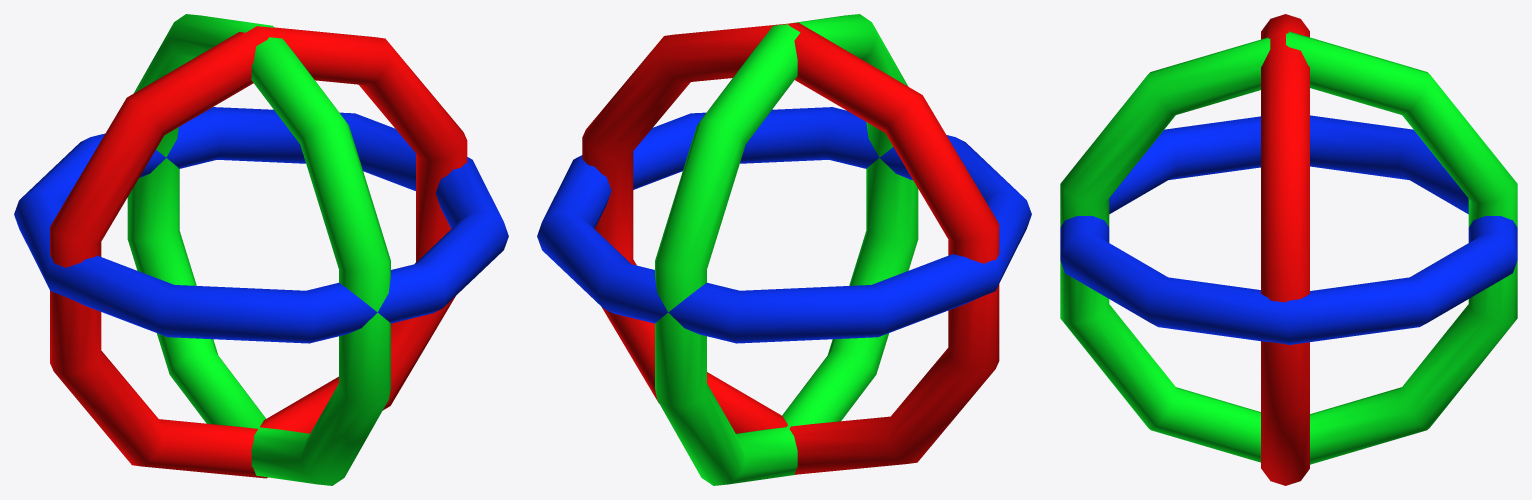
File: grabber.glb
The picture shows the model from 3 angles, left to right: view 1: azimuth 30°, elevation 25°; view 2: azimuth 150°, elevation 25°; view 3: azimuth 270°, elevation 25°; orthographic projection. The views are drawn at different scales.
Parts seen in each view (by area): view 1: Torus 2, Torus 1, Torus; view 2: Torus 2, Torus 1, Torus; view 3: Torus 1, Torus, Torus 2.
Part boxes in pixels (box(x1,y1,x2,y2)): Torus 2: box(50, 26, 467, 478); Torus 1: box(127, 14, 390, 485); Torus: box(14, 107, 508, 343); Torus 2: box(582, 22, 999, 474); Torus 1: box(655, 14, 918, 485); Torus: box(537, 107, 1031, 343); Torus 1: box(1060, 31, 1517, 464); Torus: box(1060, 115, 1517, 344); Torus 2: box(1261, 14, 1309, 485).
Size of the model in its own units: 0.112 by 0.112 by 0.1065.
